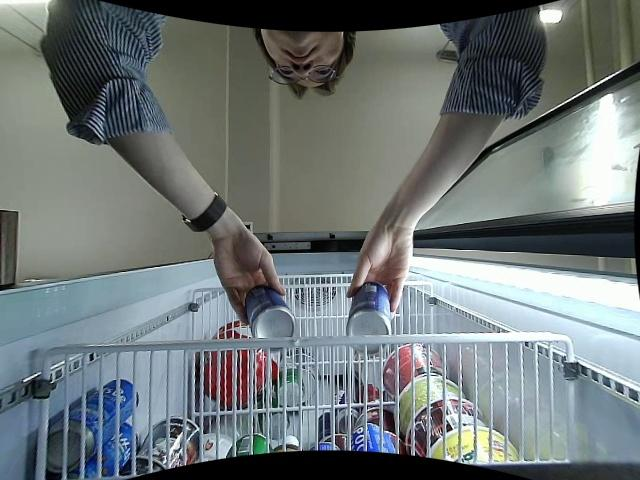00_hand: (212, 238, 284, 326), (347, 228, 413, 314)
16_hot6: (243, 286, 298, 353), (345, 281, 393, 354)
